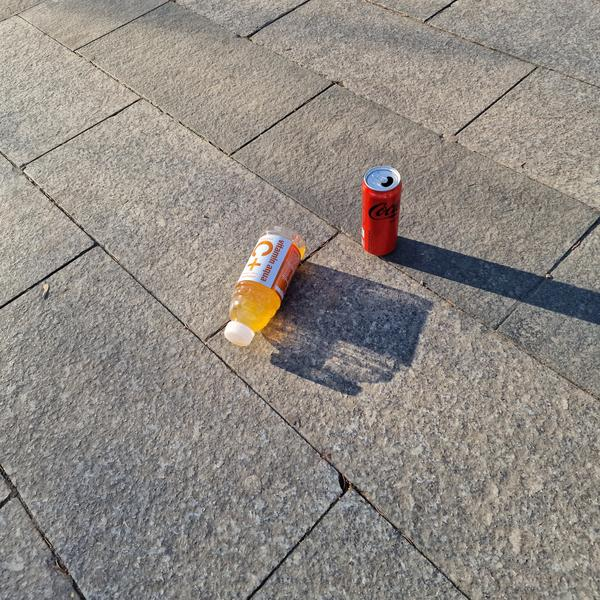can: (359, 163, 401, 257)
plastic_bottle: (211, 221, 312, 355)
